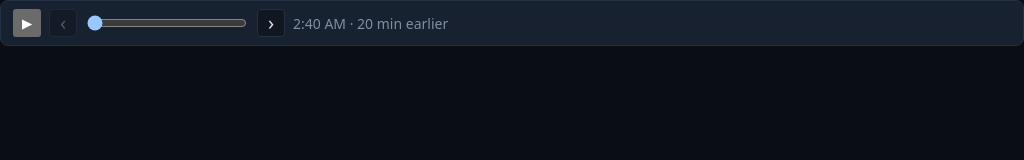
Test case: RadarTimeControl › stops playing when the user scrubs
Click the button named "Play radar loop" at (27, 23), box x1=13 y1=9 x2=41 y2=37
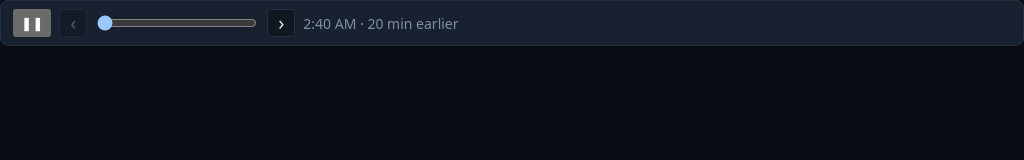
Set the slider named "Radar frame" to "2" at (249, 23), box x1=97 y1=15 x2=257 y2=31
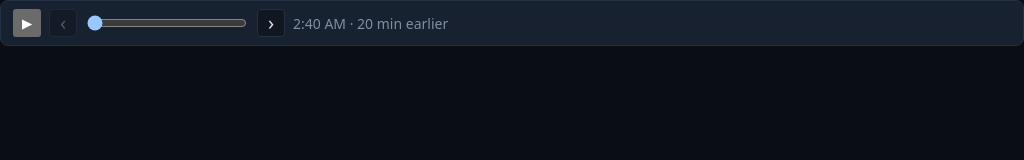
Now the button named "Play radar loop" is shown, box x1=13 y1=9 x2=41 y2=37
